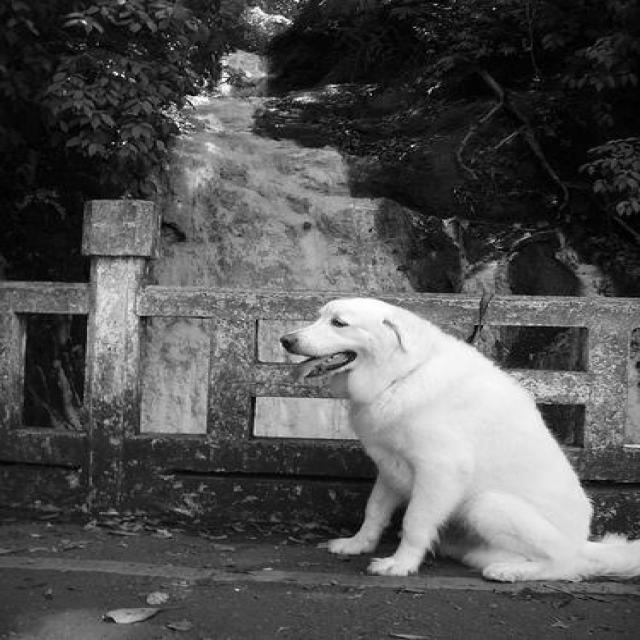sitting: (271, 288, 640, 593)
